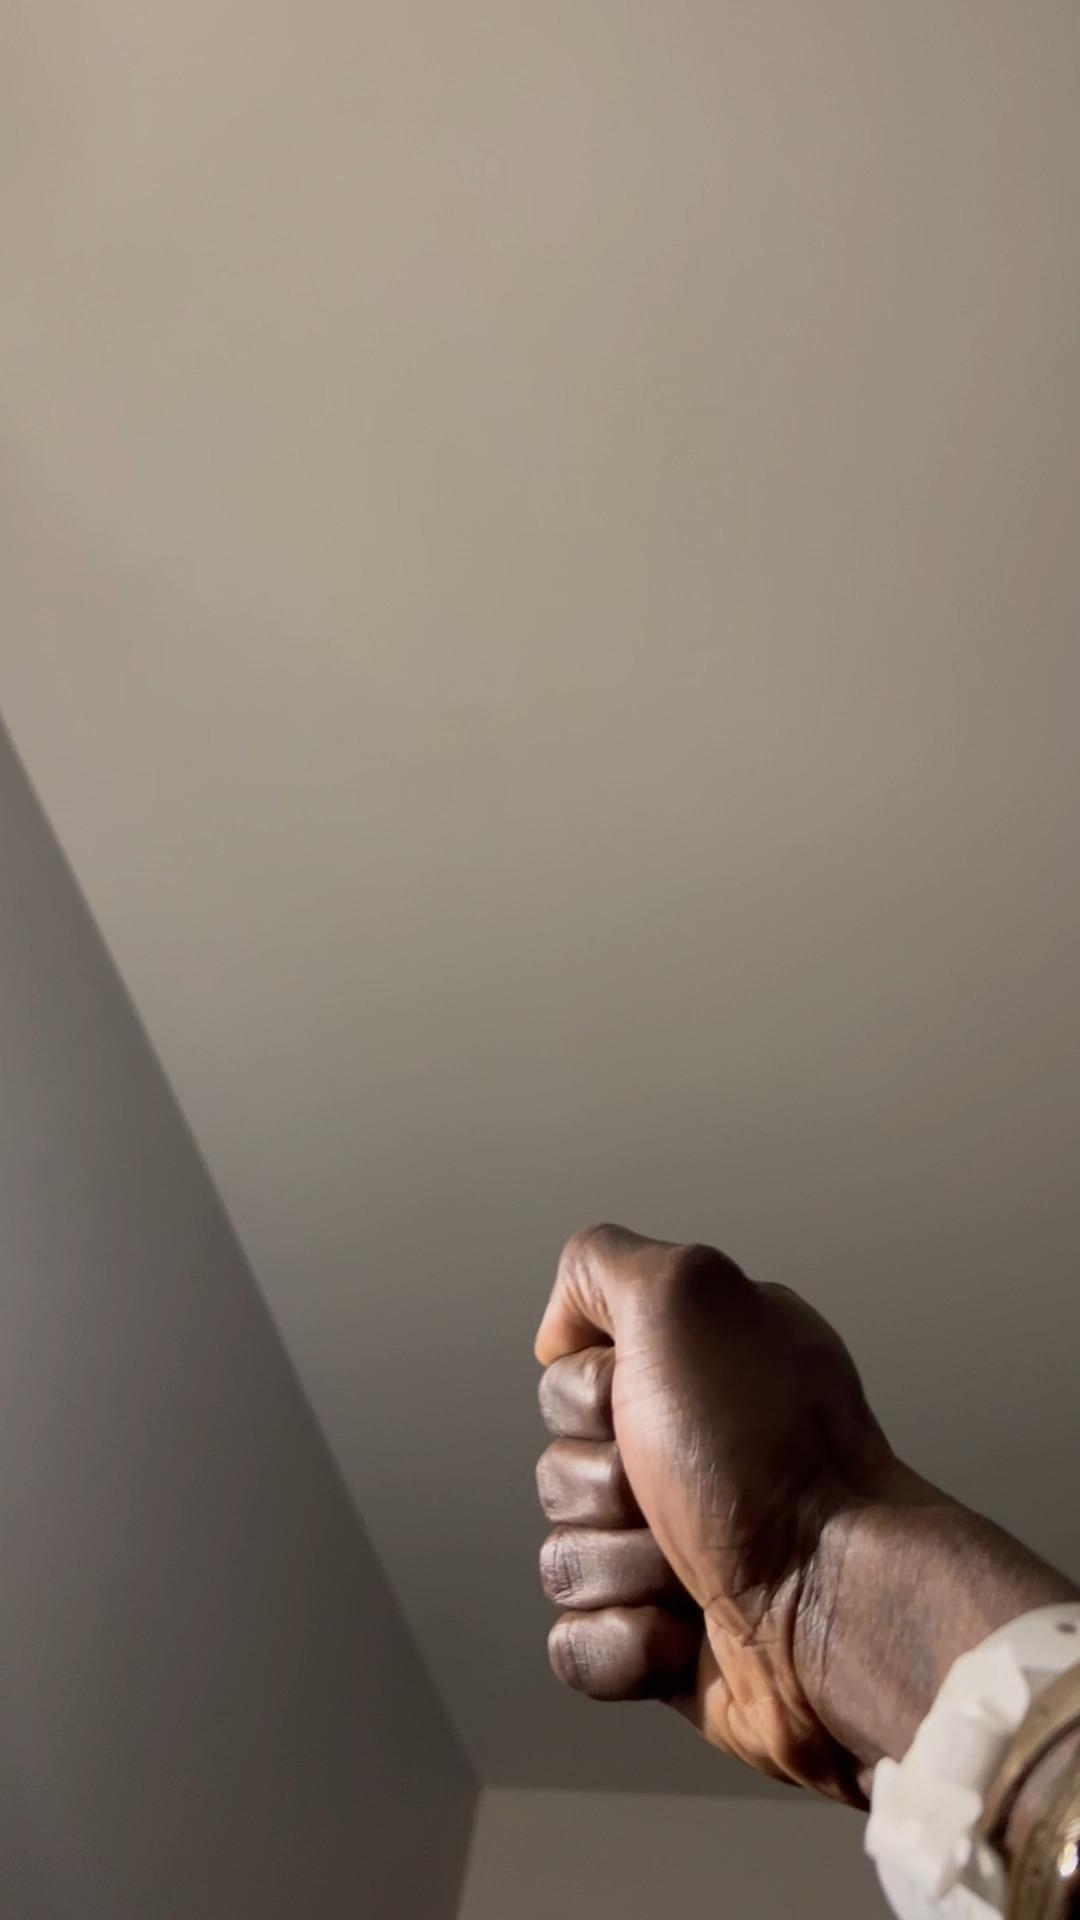Rock: (526, 1213, 905, 1799)
